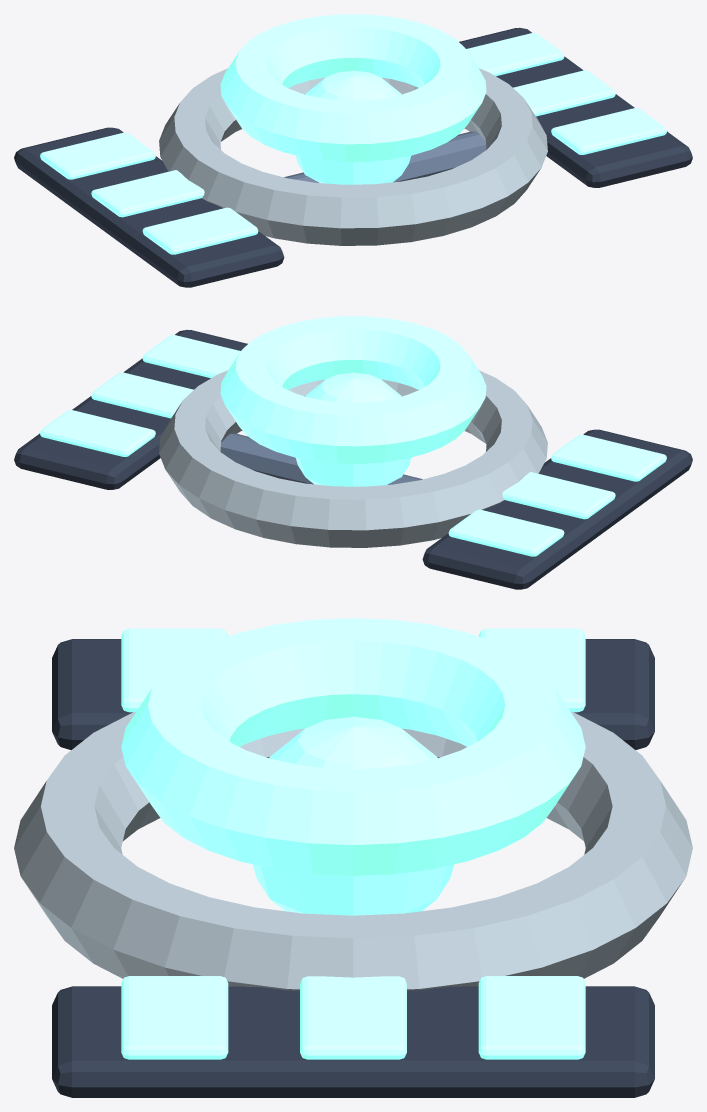
Rendered from cryostat.glb.
3 views of the same model, one above another, from view 1: azimuth 30°, elevation 25°; view 2: azimuth 150°, elevation 25°; view 3: azimuth 270°, elevation 25° (orthographic). The views are drawn at different scales.
Parts seen in each view (by area): view 1: Torus.002, Torus.003, Cube, Cube.004, Sphere, Cube.001, Cube.003, Cube.005, Cube.002, Cube.006, Cube.007, Cube.008; view 2: Torus.002, Torus.003, Cube, Cube.004, Sphere, Cube.001, Cube.003, Cube.007, Cube.002, Cube.006, Cube.005, Cube.008; view 3: Torus.003, Torus.002, Cube.004, Cube, Sphere, Cube.005, Cube.007, Cube.006, Cube.001, Cube.003.
Part boxes in pixels (<box>): Torus.002: <box>159,68,547,245</box>; Torus.003: <box>220,14,486,161</box>; Cube: <box>14,127,284,287</box>; Cube.004: <box>459,27,692,187</box>; Sphere: <box>296,70,410,184</box>; Cube.001: <box>142,207,258,254</box>; Cube.003: <box>40,132,155,179</box>; Cube.005: <box>551,108,666,154</box>; Cube.002: <box>91,170,204,217</box>; Cube.006: <box>513,70,615,116</box>; Cube.007: <box>466,33,564,76</box>; Cube.008: <box>284,131,486,182</box>; Torus.002: <box>159,370,547,547</box>; Torus.003: <box>220,316,486,463</box>; Cube: <box>422,429,692,589</box>; Cube.004: <box>14,329,247,489</box>; Sphere: <box>296,372,410,486</box>; Cube.001: <box>551,434,666,481</box>; Cube.003: <box>448,509,564,556</box>; Cube.007: <box>40,410,155,456</box>; Cube.002: <box>502,472,615,519</box>; Cube.006: <box>91,372,193,418</box>; Cube.005: <box>142,335,240,378</box>; Cube.008: <box>220,433,422,484</box>; Torus.003: <box>121,618,585,875</box>; Torus.002: <box>14,711,692,990</box>; Cube.004: <box>52,986,654,1097</box>; Cube: <box>52,639,654,749</box>; Sphere: <box>252,716,454,915</box>; Cube.005: <box>121,976,228,1059</box>; Cube.007: <box>478,976,585,1059</box>; Cube.006: <box>300,976,406,1059</box>; Cube.001: <box>121,628,228,712</box>; Cube.003: <box>478,628,585,712</box>.
Bounding box in the file's own units: 2.32 × 0.5789 × 1.52.
